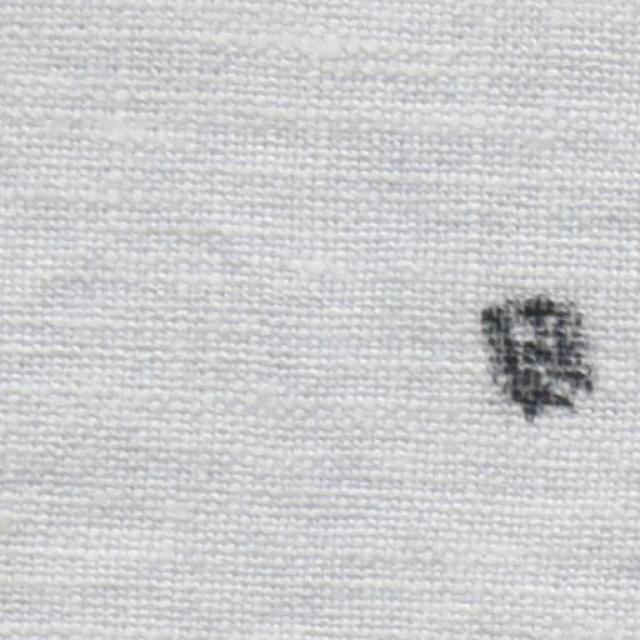Stain: (479, 295, 600, 423)
